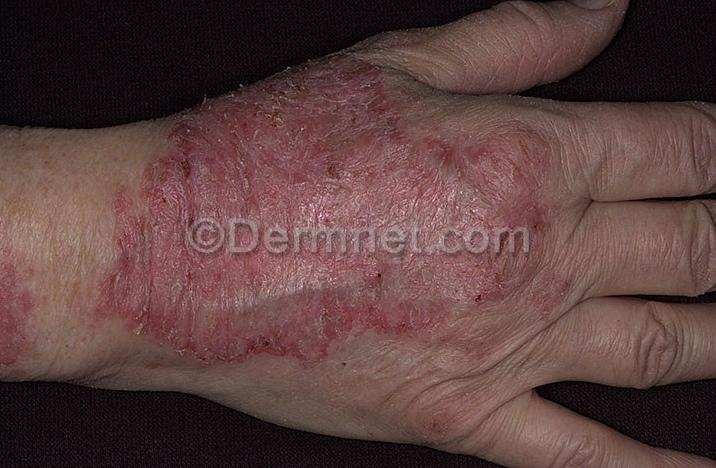eritema 3: (90, 50, 556, 363), (0, 249, 30, 374)
exudacion 1: (186, 72, 322, 143)
xerosis 3: (91, 22, 557, 360)
